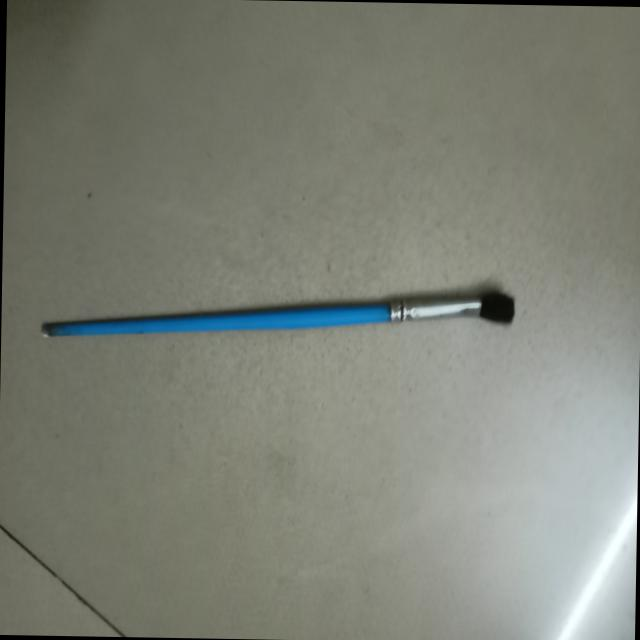pen: (31, 291, 526, 344)
